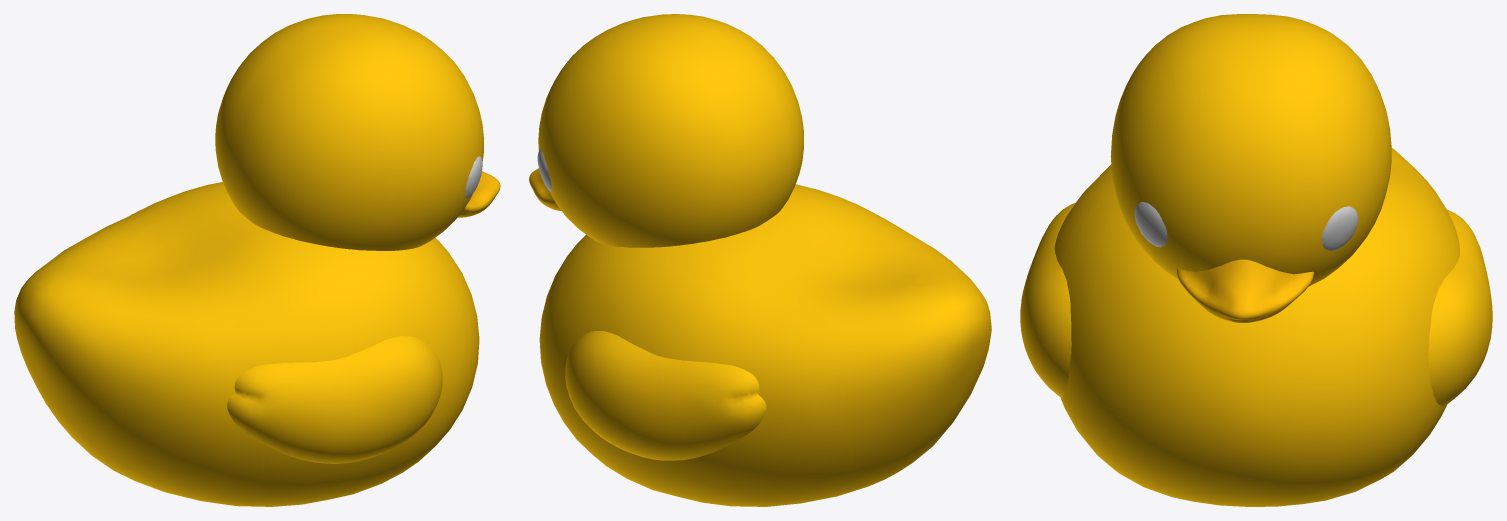
Rendered from dduck.dae.
3 views of the same model, side by side, from view 1: azimuth 30°, elevation 25°; view 2: azimuth 150°, elevation 25°; view 3: azimuth 270°, elevation 25° (orthographic). The views are drawn at different scales.
Visible parts, largest first — view 1: group_2, group_5, instance_1, group_1; view 2: group_2, group_5, instance_0, group_1; view 3: group_2, group_5, instance_0, instance_1, group_1, instance_2, instance_3.
Part boxes in pixels (x1,y1,x2,y2): group_2: (14, 182, 479, 506); group_5: (215, 14, 483, 250); instance_1: (227, 336, 442, 463); group_1: (458, 171, 500, 217); group_2: (539, 184, 991, 506); group_5: (538, 14, 803, 247); instance_0: (565, 331, 766, 460); group_1: (529, 168, 561, 210); group_2: (1054, 148, 1459, 506); group_5: (1110, 14, 1391, 286); instance_0: (1428, 210, 1492, 405); instance_1: (1020, 202, 1075, 397); group_1: (1177, 259, 1313, 322); instance_2: (1322, 206, 1358, 250); instance_3: (1134, 201, 1167, 247).
Size of the model in its own units: 5.35 by 4.28 by 4.75.
